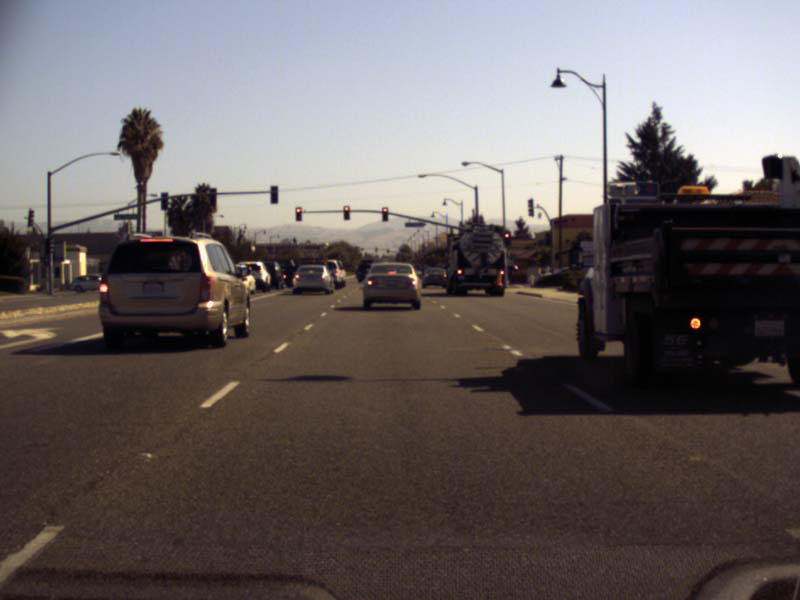Red: (294, 206, 302, 222), (342, 205, 350, 220), (381, 207, 388, 221), (503, 230, 509, 246)
